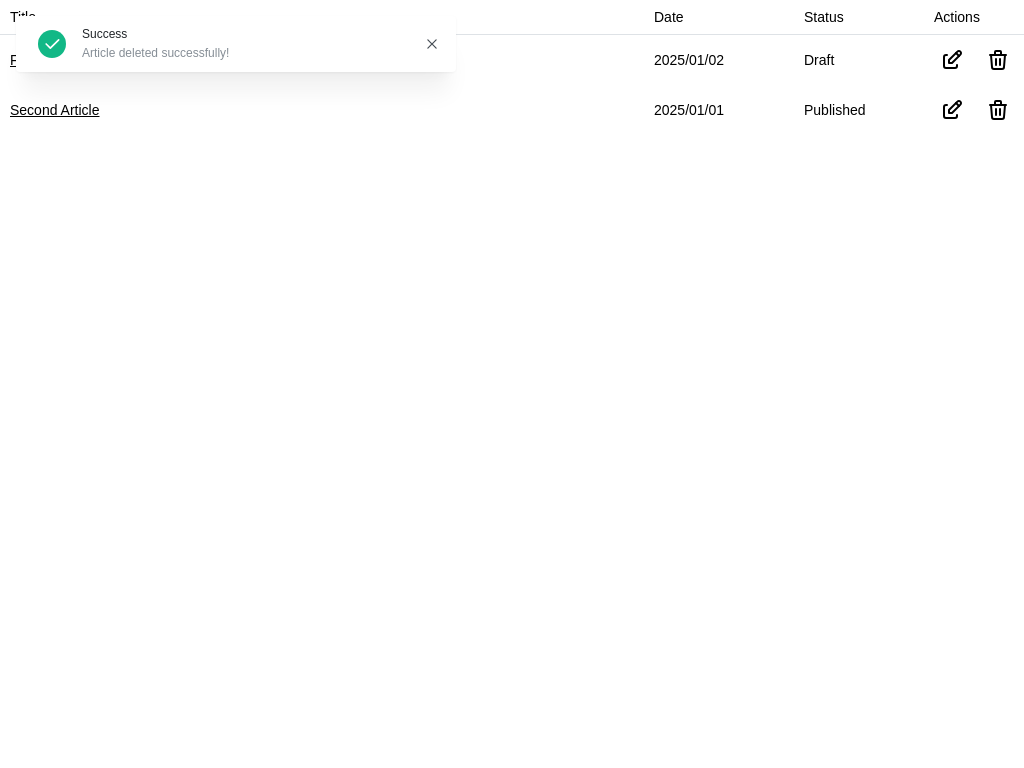
Scenario: 記事一覧コンポーネント › 削除ボタンを押下した場合 › 削除アクションでエラーが発生した場合、エラーメッセージが表示される
Click the button named "Delete Article" in the row of "First Article": (998, 60) left=980, top=42, right=1016, bottom=78
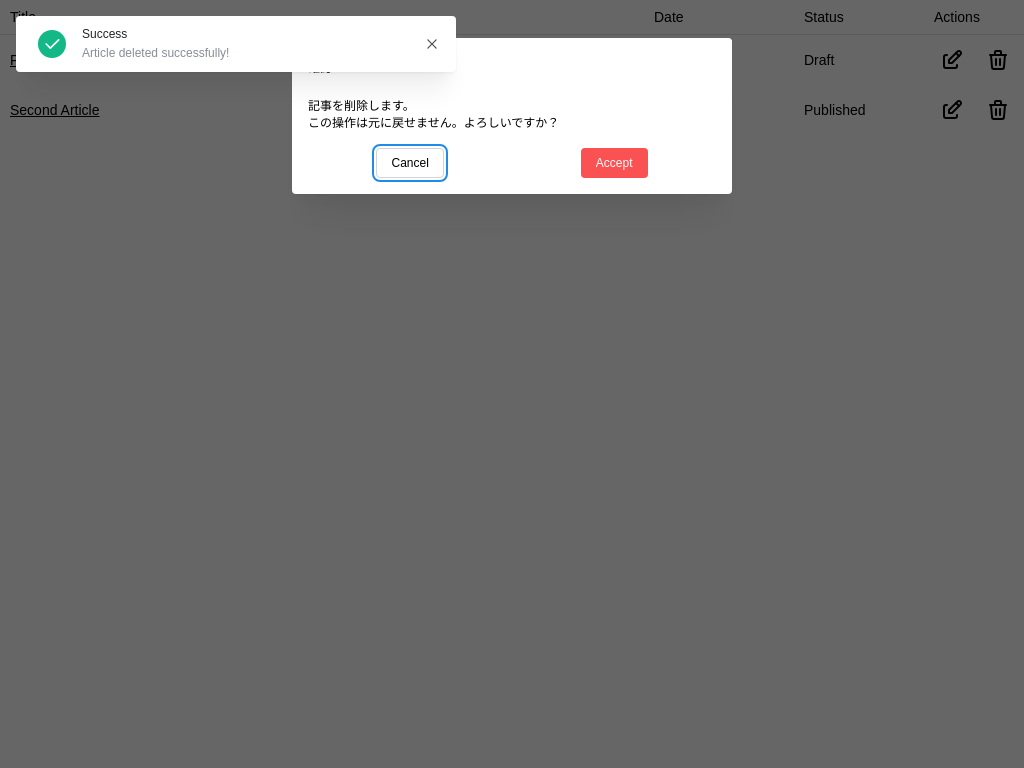
Click the button "Accept": (614, 163) left=581, top=148, right=648, bottom=178
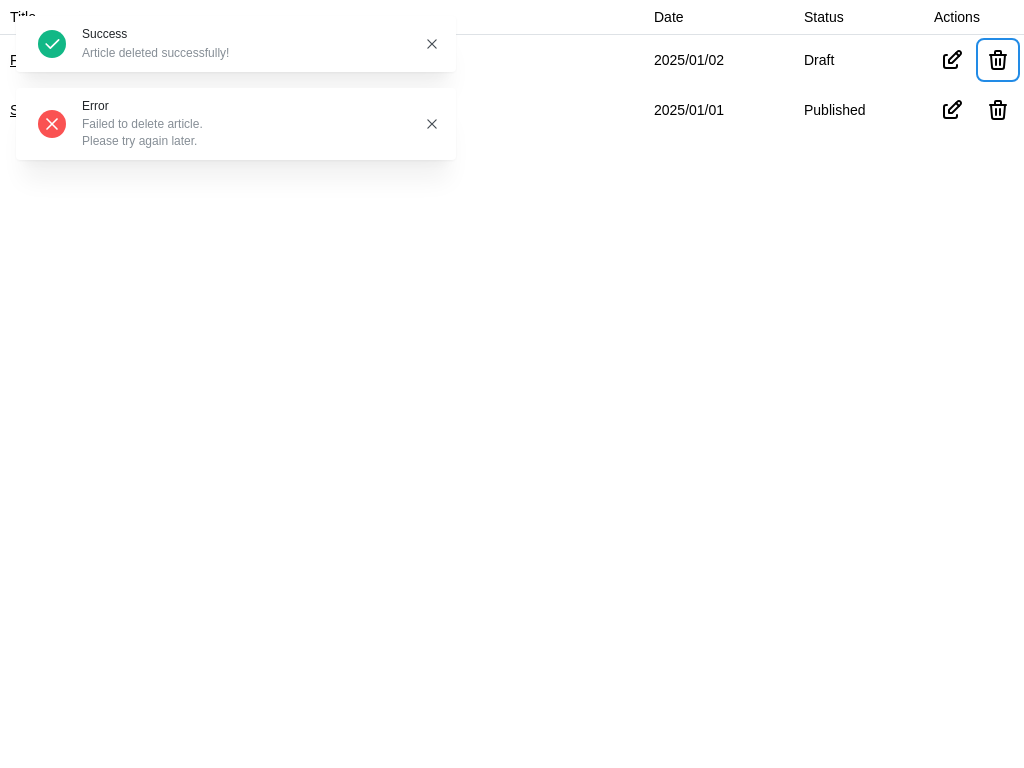
Check: the text "Failed to delete article. Please try again later." is shown, box left=82, top=117, right=203, bottom=148
